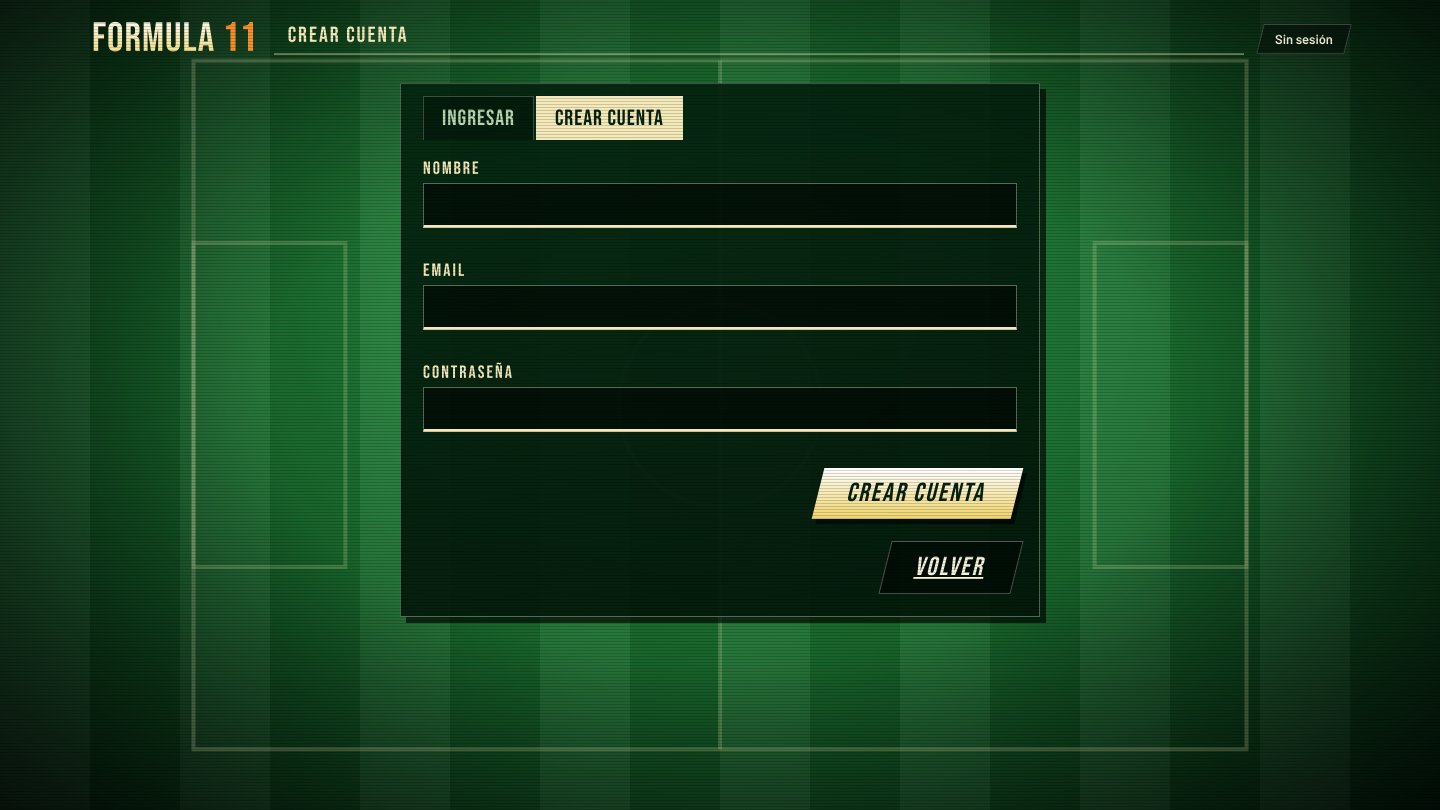
Test: registro › normaliza el error 400 del servidor
Type "Ana" into the field labelled "Nombre" at (720, 206), box [423,183,1017,228]
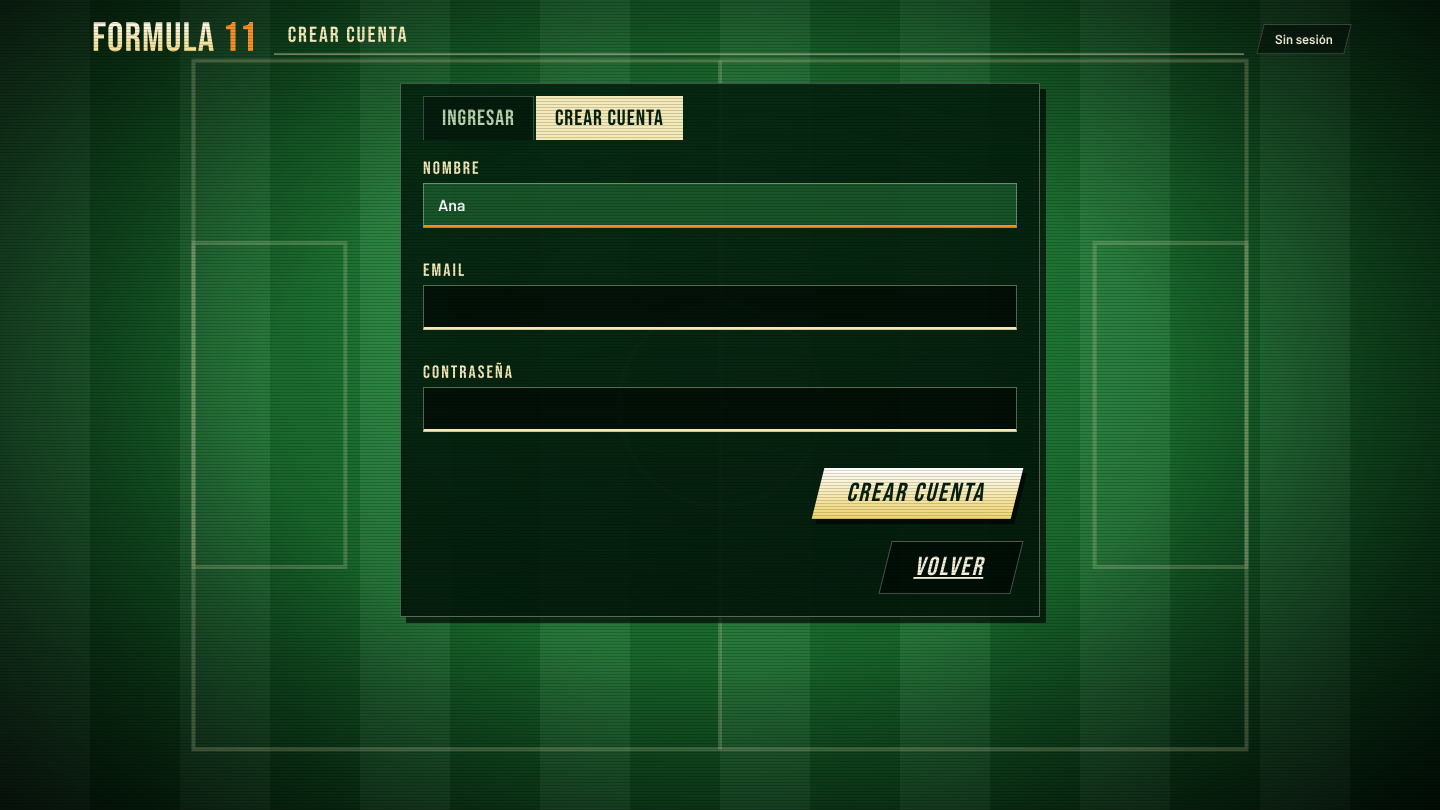
Type "ana@example.com" into the field labelled "Email" at (720, 308), box [423,285,1017,330]
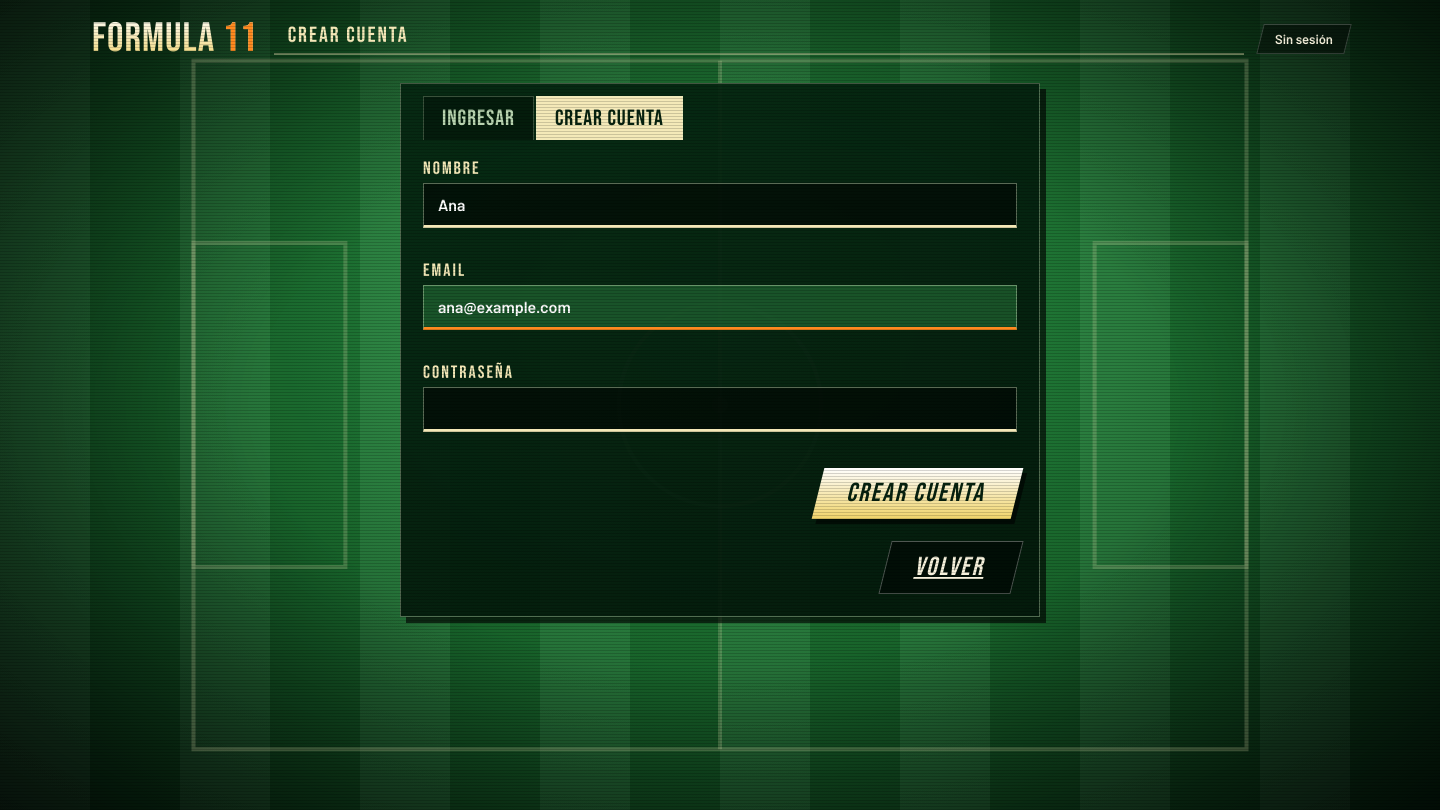
Type "Secreto123!" into the password field labelled "Contraseña" at (720, 410), box [423,387,1017,432]
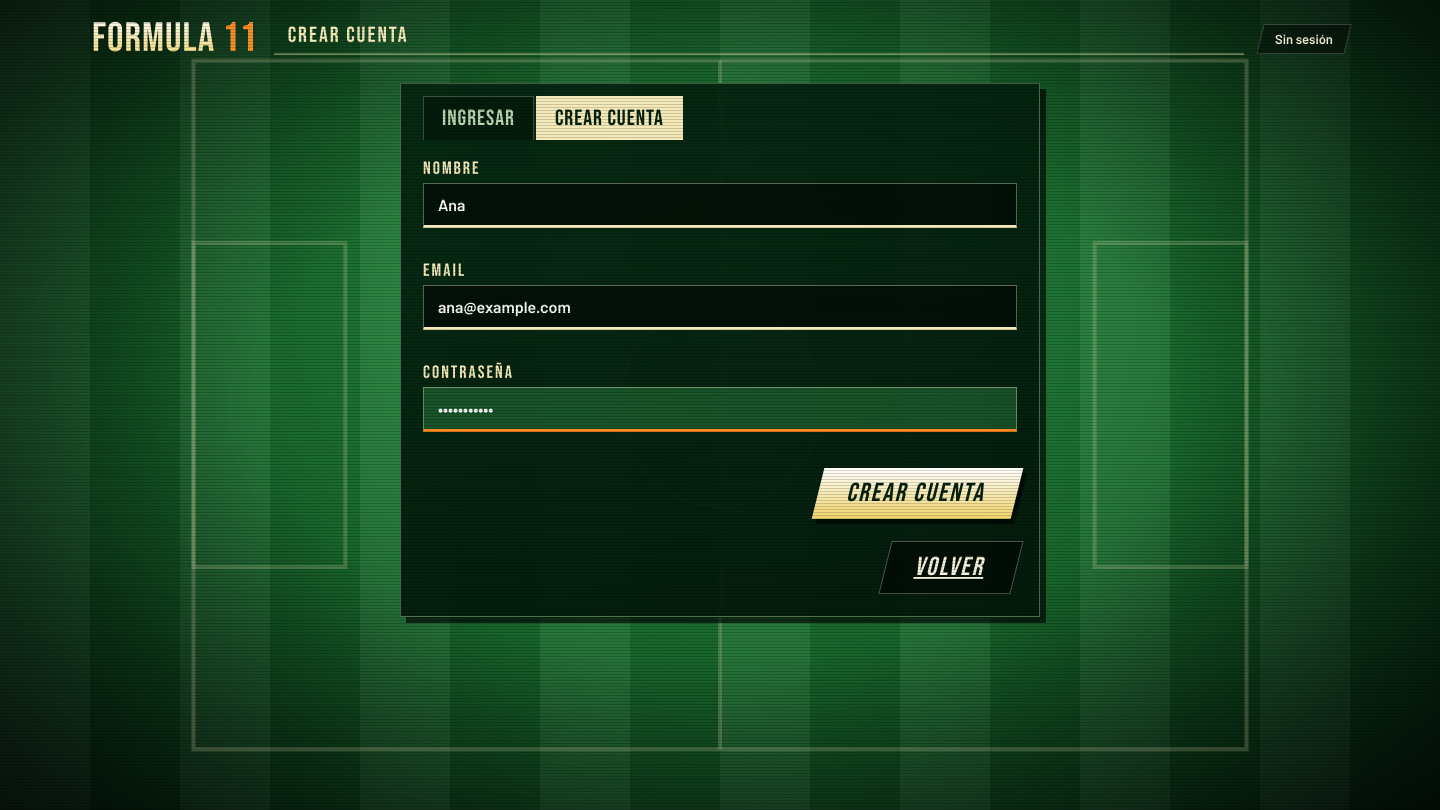
Click the button "Crear cuenta" at (918, 494), box [812,468,1023,519]
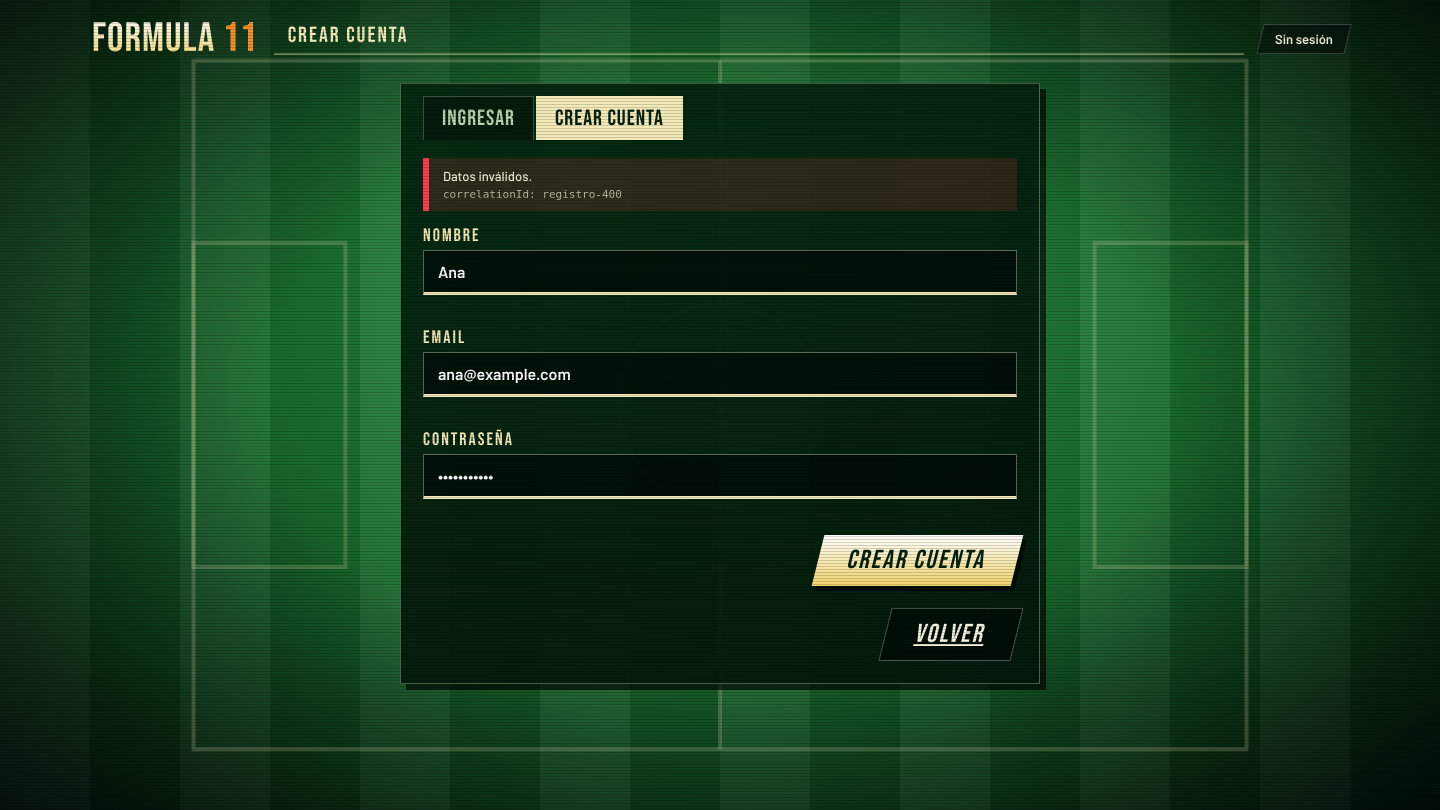
Now the text "Datos inválidos." is shown, box [443,168,532,184]
Now the text "correlationId: registro-400" is shown, box [443,188,622,201]
